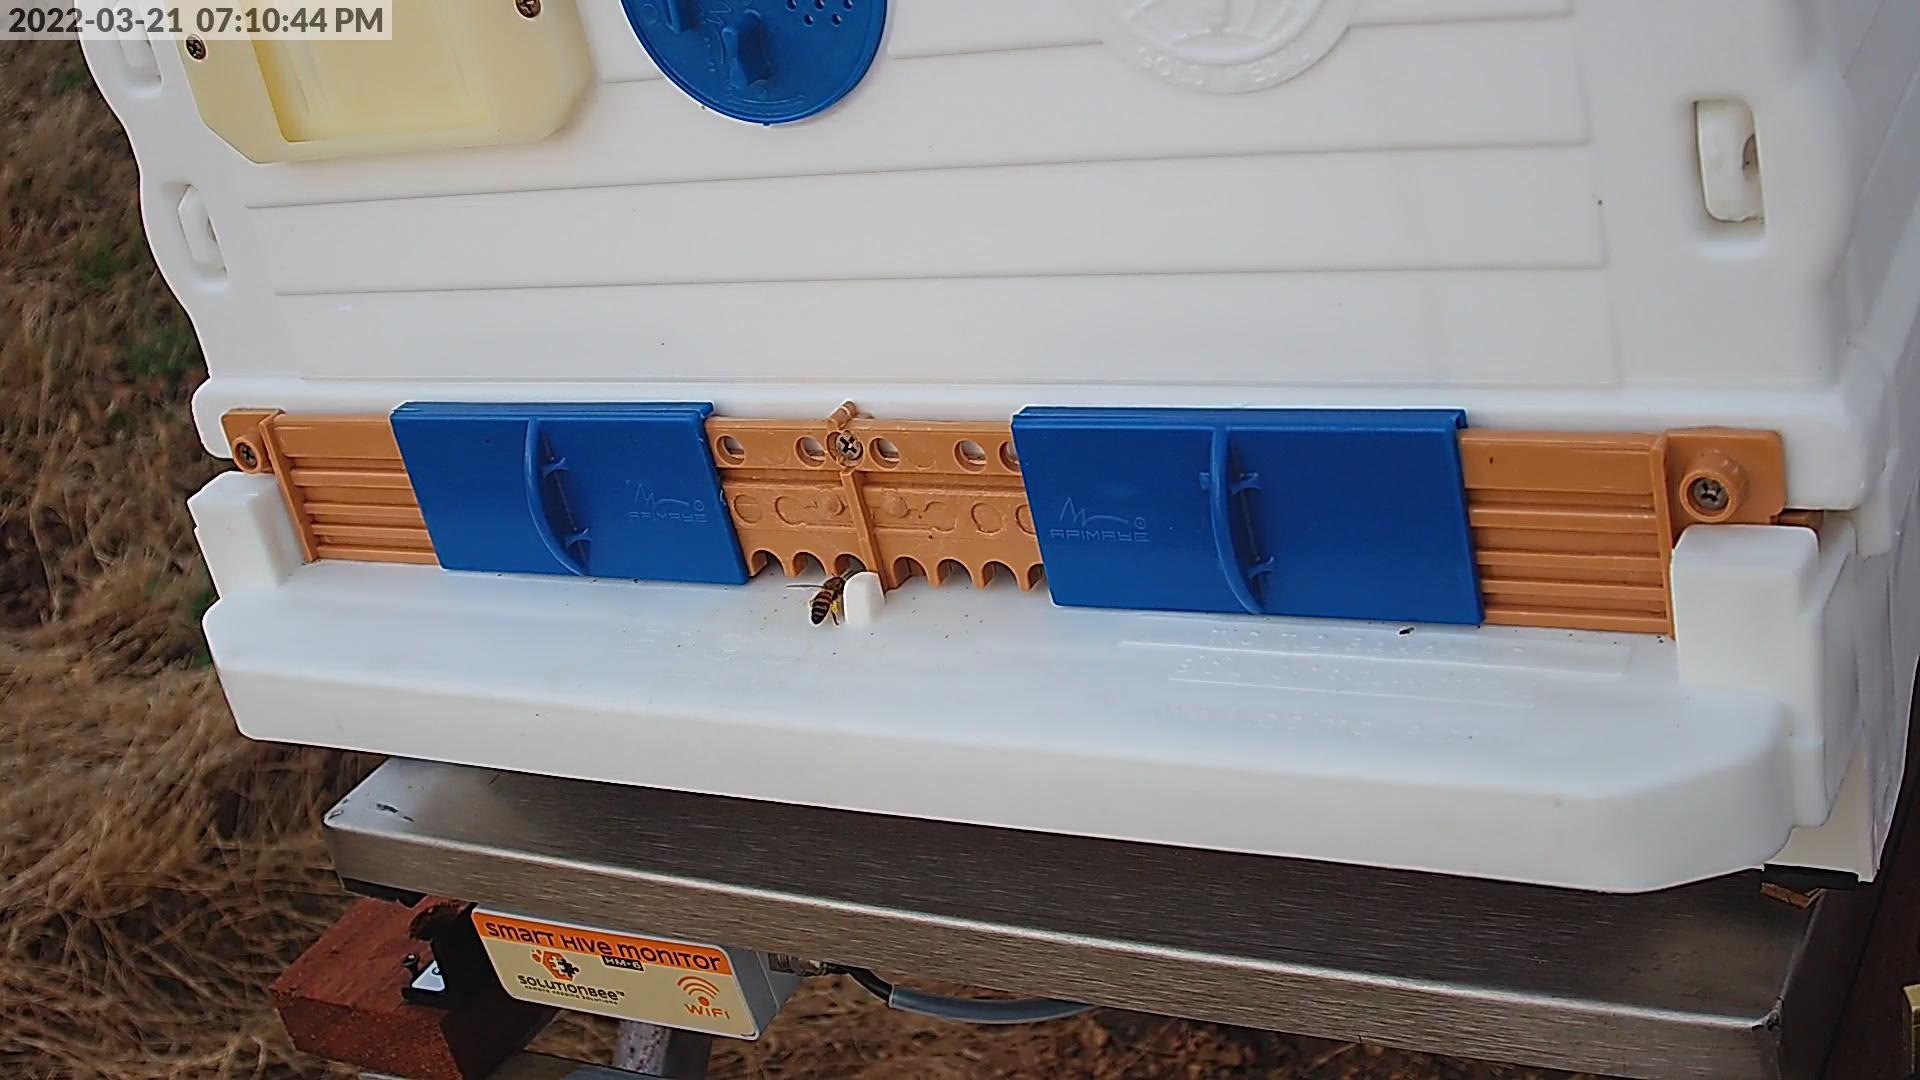pollenbee: (807, 575, 847, 625)
